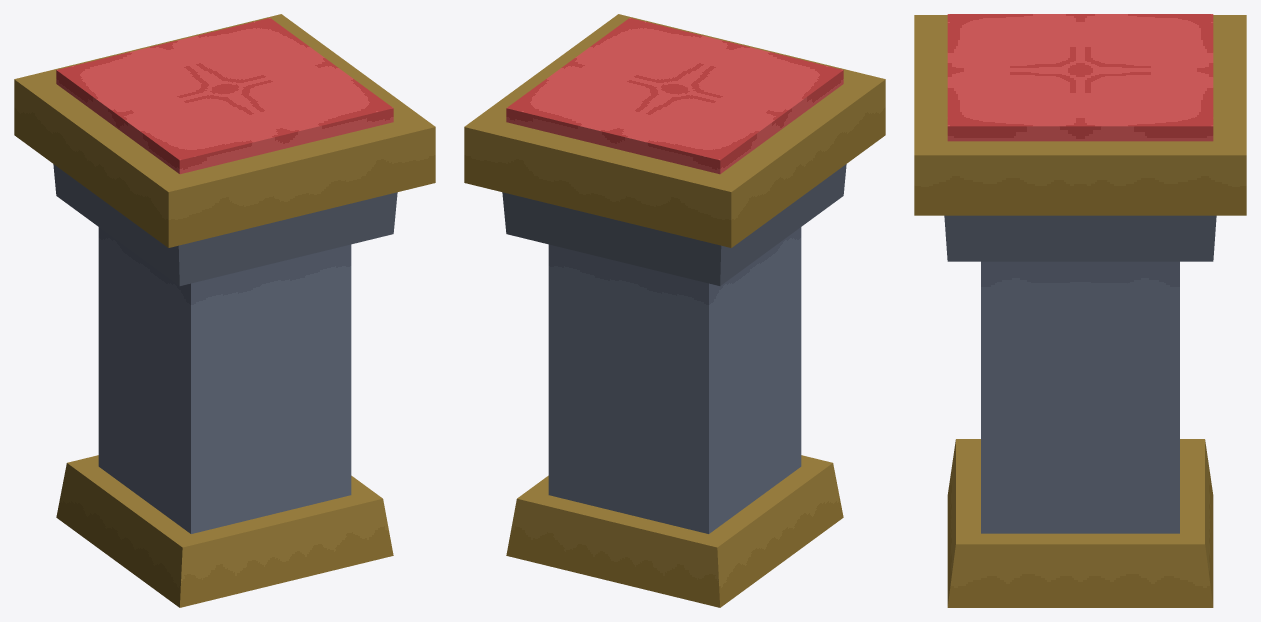
The model's file is pedestal.gltf.
3 renders of one model, left to right at view 1: azimuth 30°, elevation 25°; view 2: azimuth 150°, elevation 25°; view 3: azimuth 270°, elevation 25°, orthographic. The views are drawn at different scales.
Parts seen in each view (by area): view 1: mesh (×5); view 2: mesh (×5); view 3: mesh (×5).
Part boxes in pixels (x1=…): mesh (×5): x1=14, y1=14, x2=435, y2=607; mesh (×5): x1=464, y1=14, x2=885, y2=607; mesh (×5): x1=914, y1=14, x2=1246, y2=607.
Size of the model in its own units: 1.25 by 2 by 1.25.
1 material, 1 textured.
